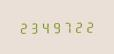four: (39, 20, 49, 34)
nine: (50, 20, 60, 33)
seven: (61, 19, 71, 33)
three: (28, 20, 38, 34)
two: (17, 20, 27, 34), (72, 19, 82, 33), (83, 19, 93, 33)
